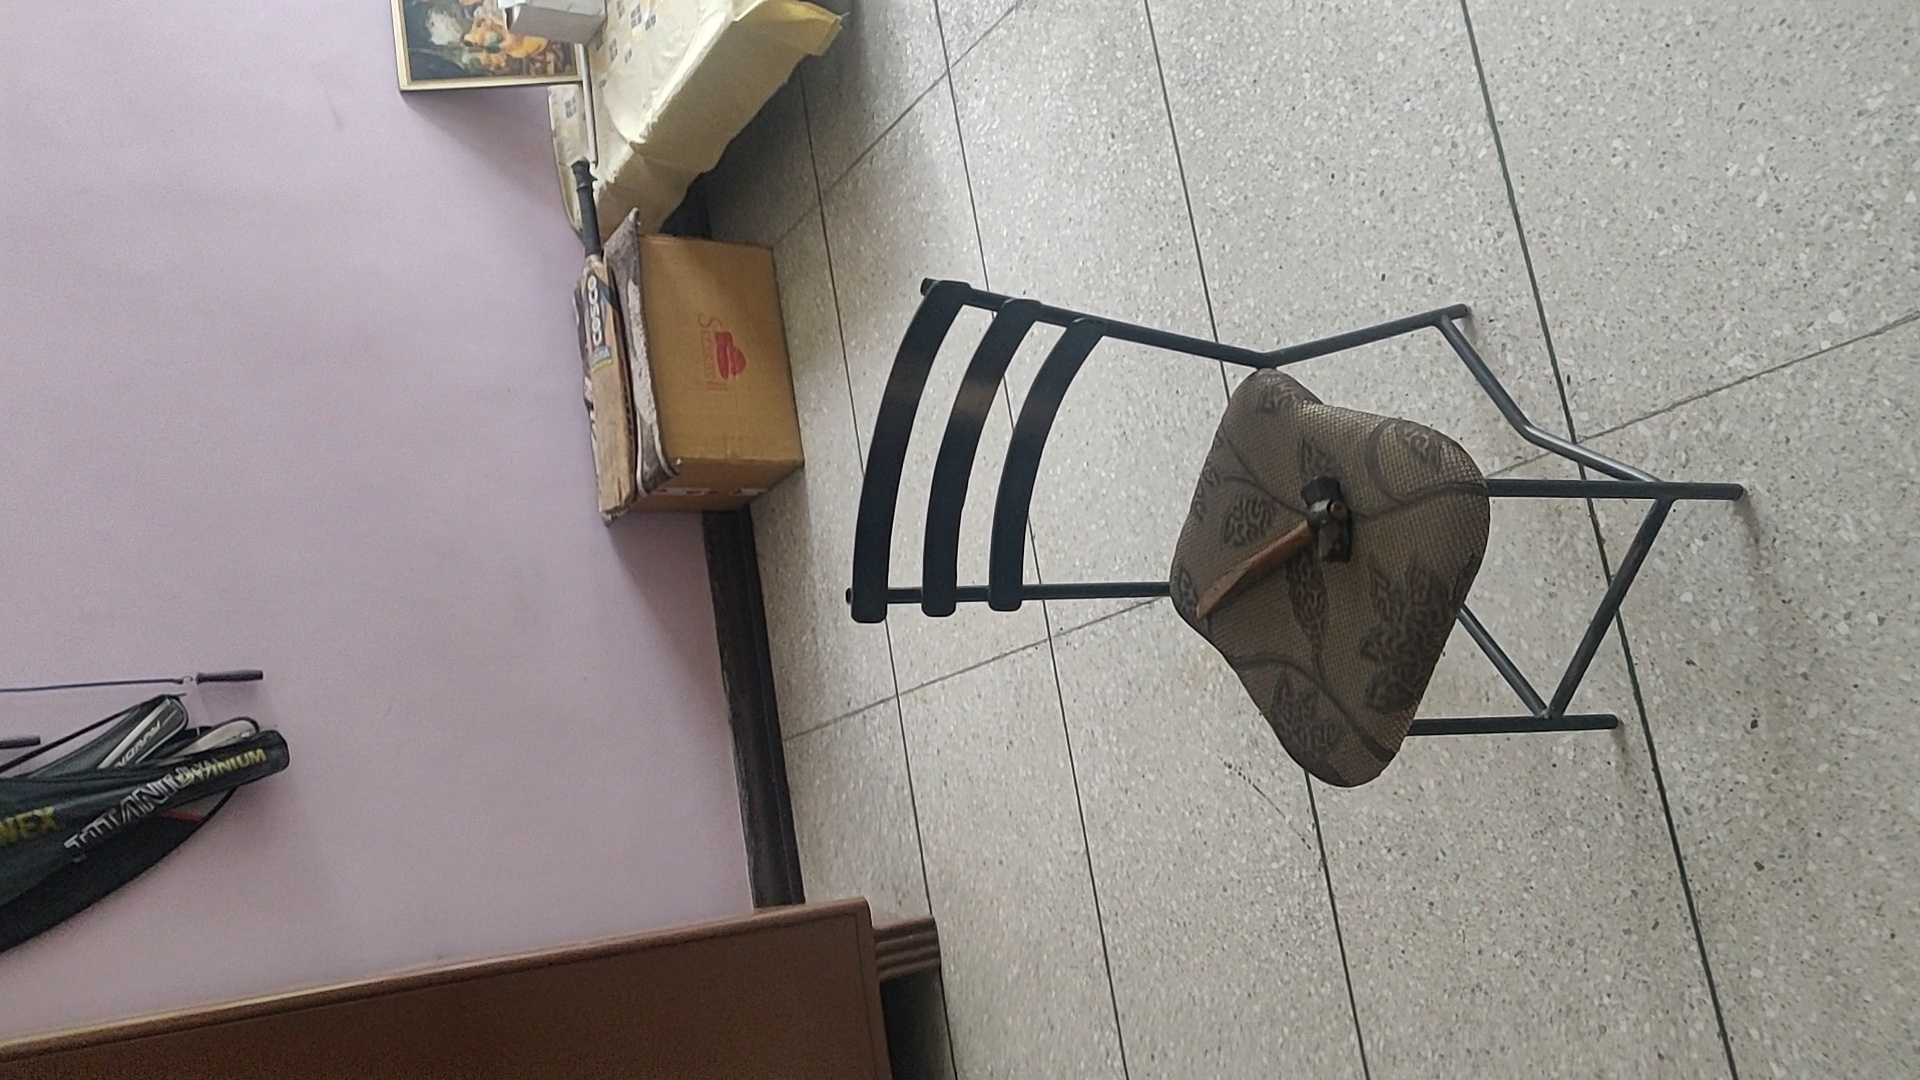hammer: (1193, 473, 1354, 621)
